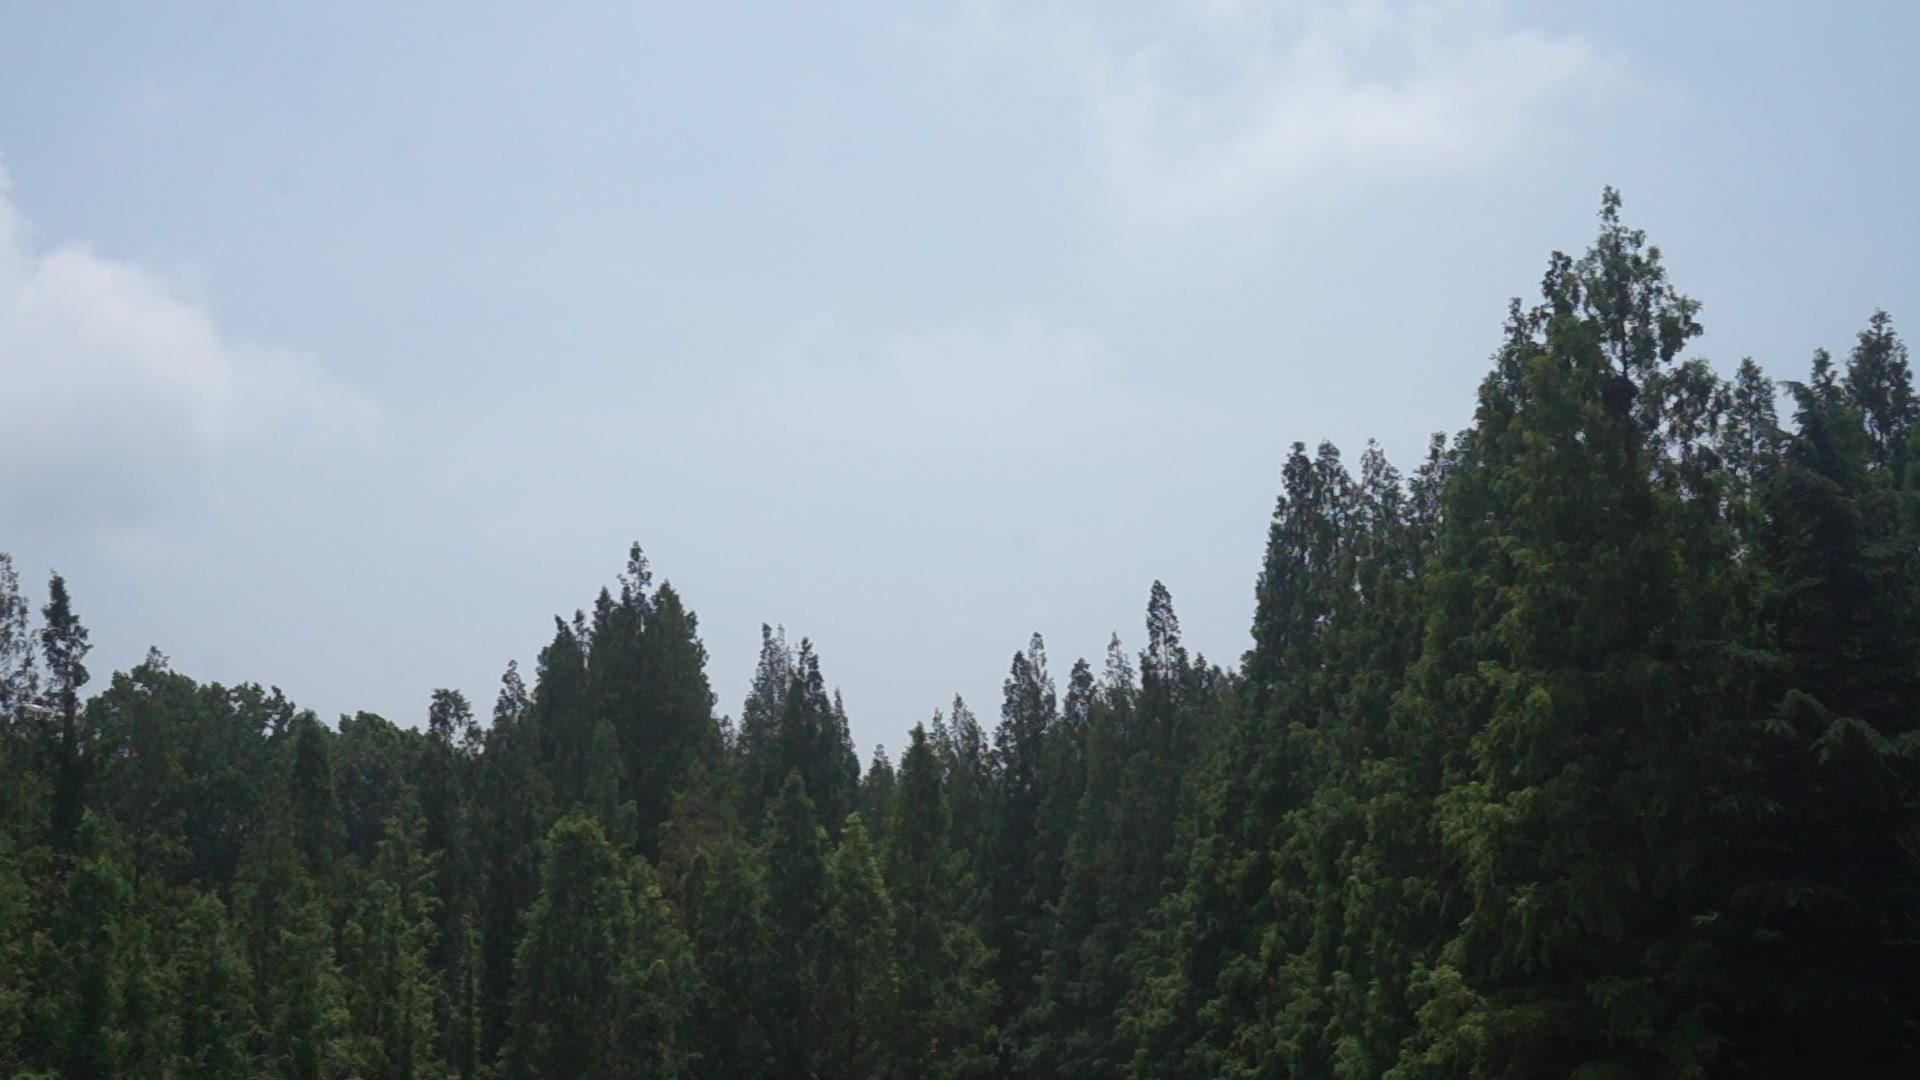UAV: (22, 704, 57, 721)
